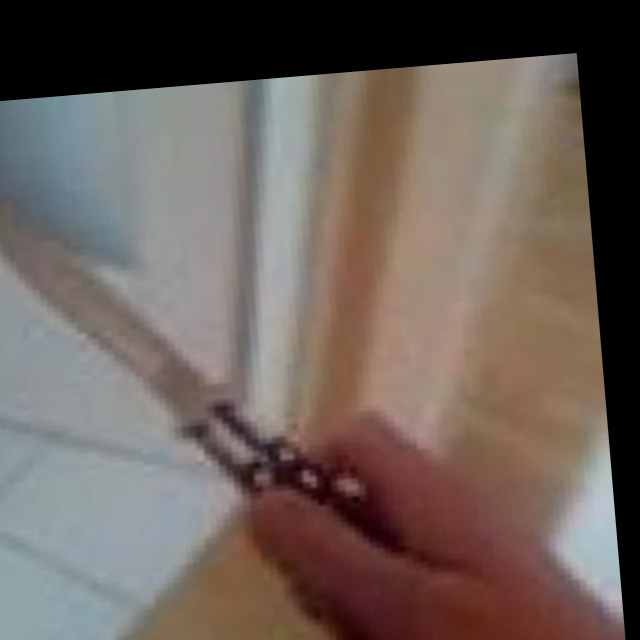Sharp-Object: (0, 170, 406, 590)
